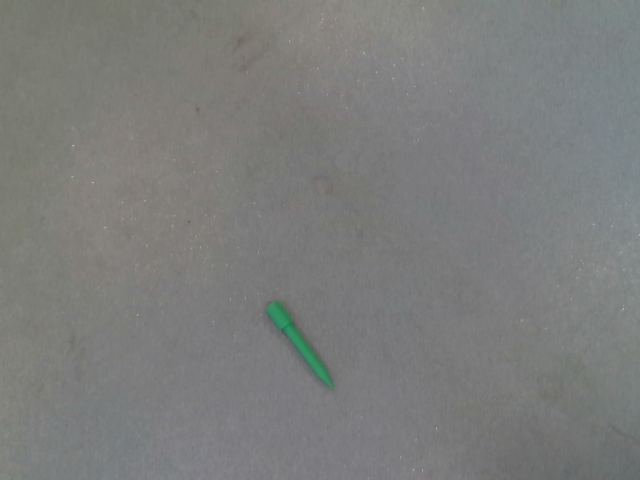Probe: (262, 295, 340, 392)
